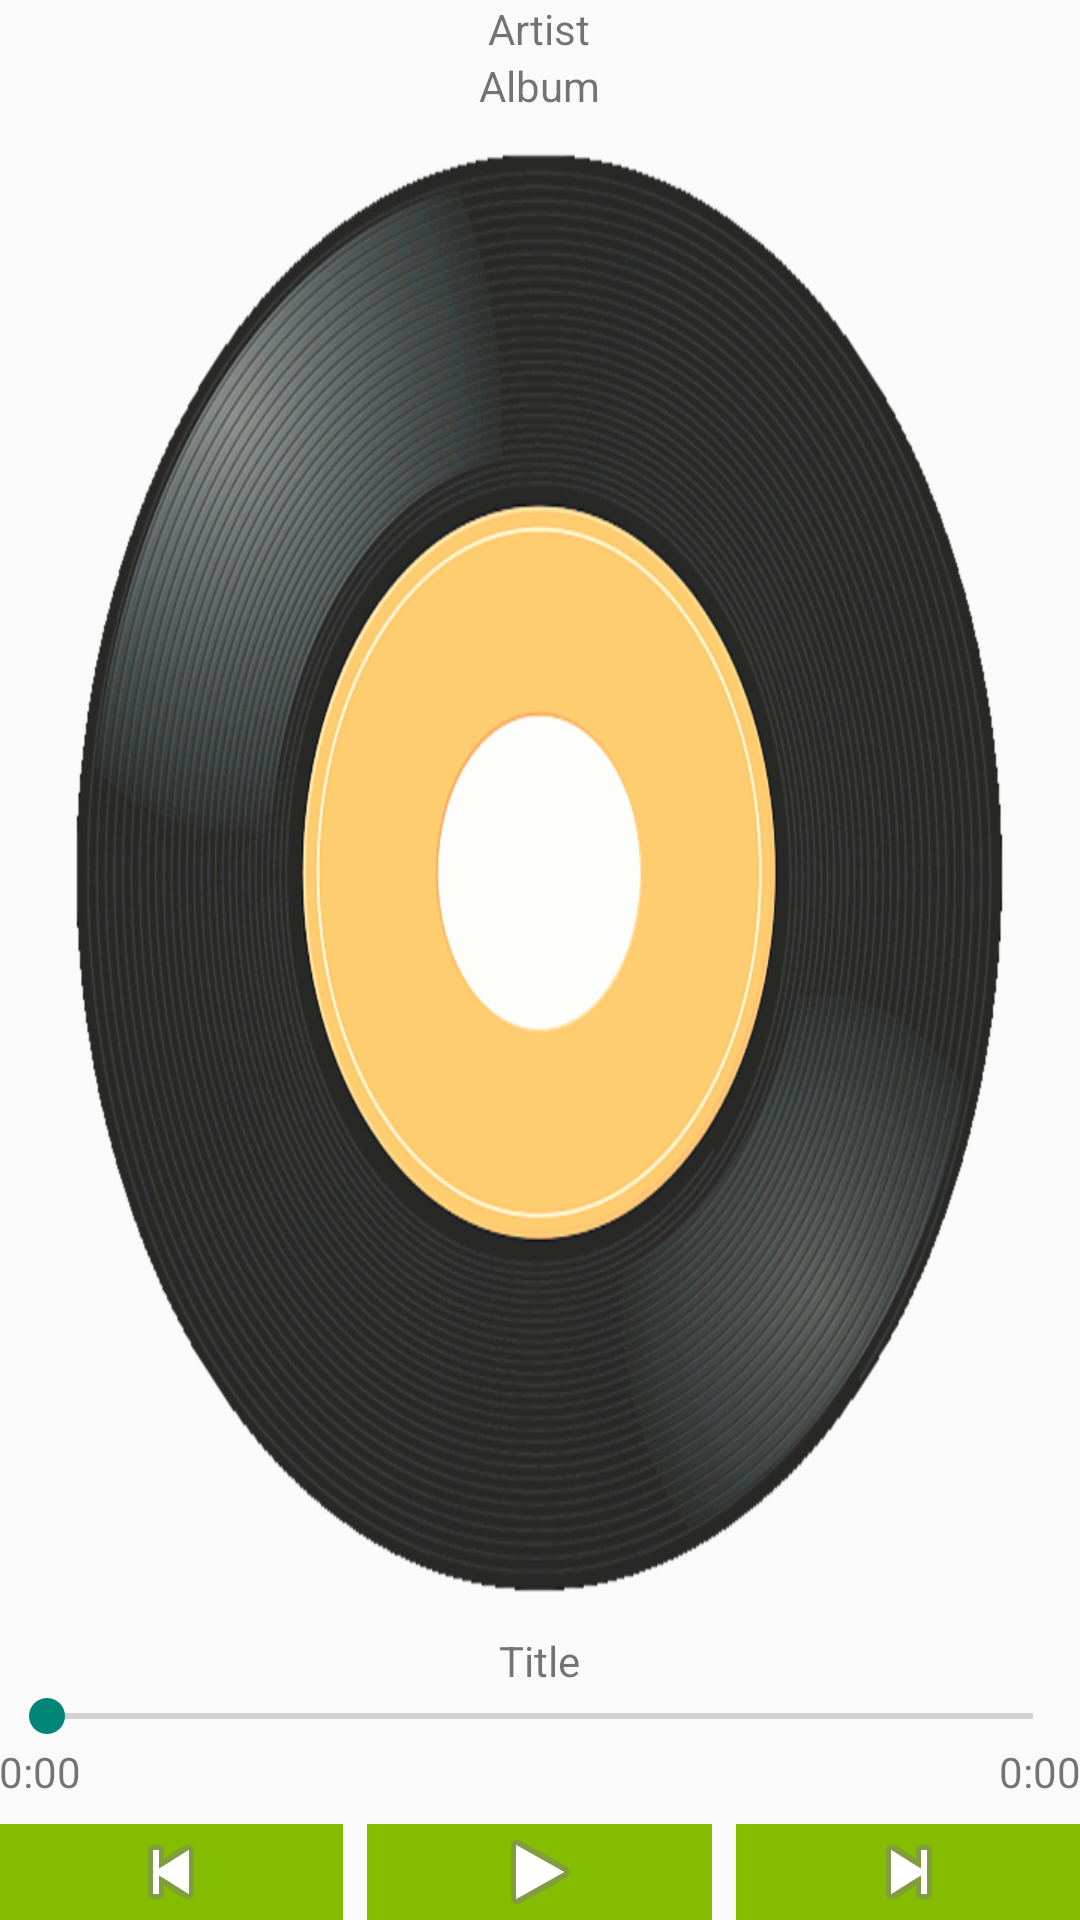

Icon bounding boxes for this 1080x1920 phone screenshot, format [x1,y1,x2,y2]:
Next Button: [736,1824,1080,1920]
Play/Pause Button: [367,1824,712,1920]
Previous Button: [0,1824,343,1920]
